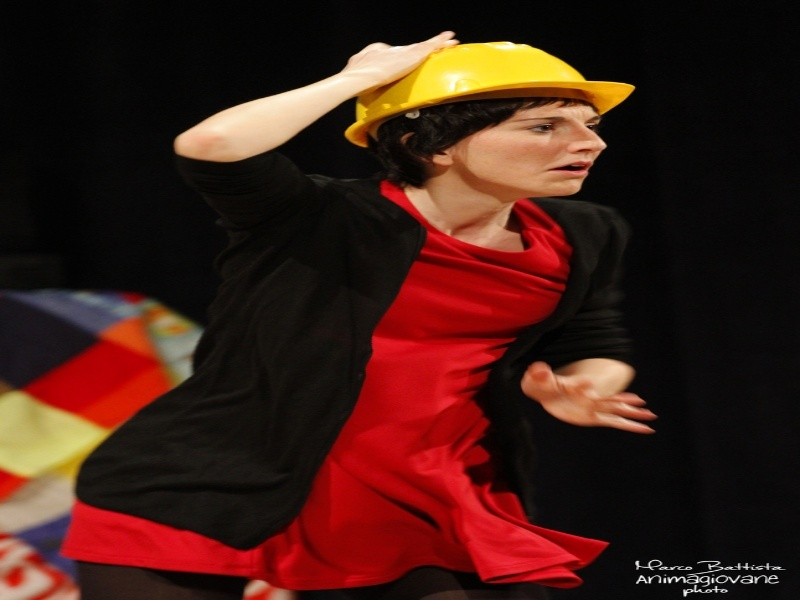Baret: (344, 35, 637, 126)
